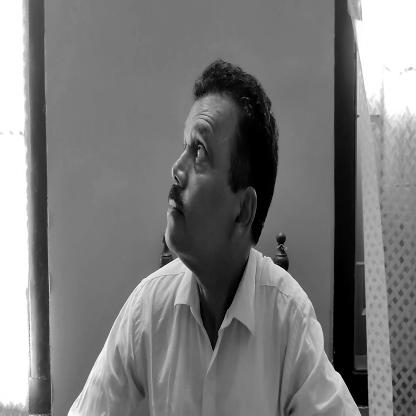Distracted: (165, 49, 279, 280)
